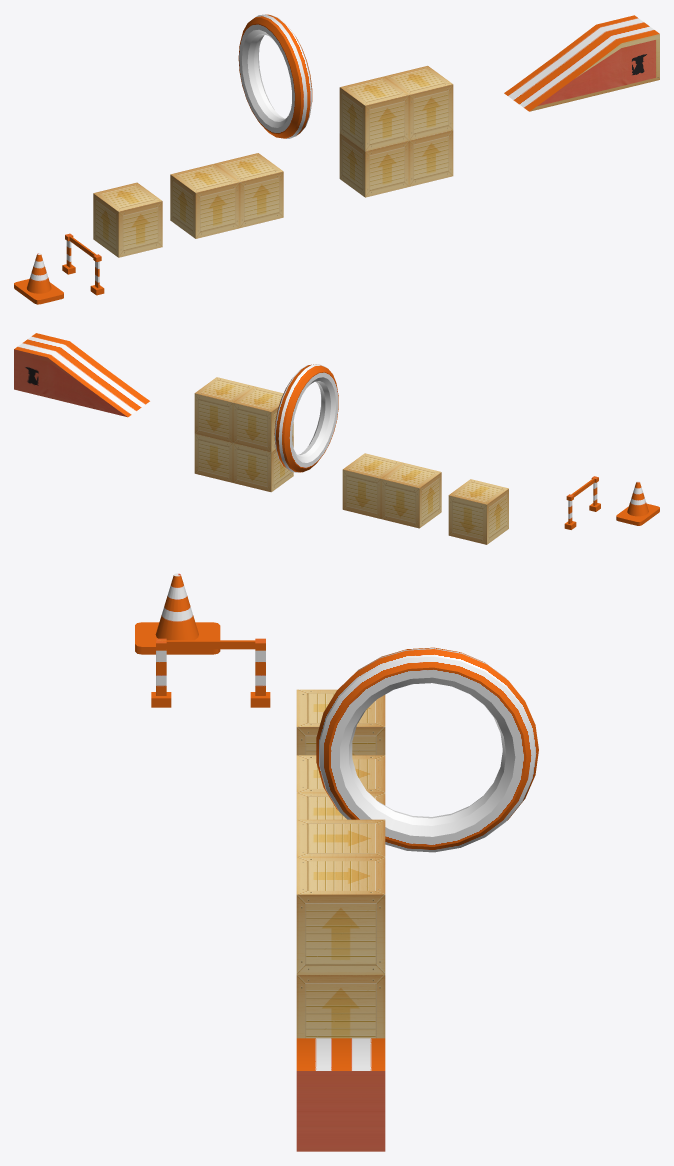
Rendered from jump and combo.fbx.
The picture shows the model from 3 angles, top to bottom: view 1: azimuth 30°, elevation 25°; view 2: azimuth 150°, elevation 25°; view 3: azimuth 270°, elevation 25°; orthographic projection. The views are drawn at different scales.
Parts seen in each view (by area): view 1: pCube14, pCube12, pCube13, pTorus1, pCube5, pCylinder2, pCube3; view 2: pCube14, pCube12, pCube13, pTorus1, pCube5, pCylinder2, pCube3; view 3: pCube14, pTorus1, pCube12, pCube5, pCylinder2, pCube13, pCube3.
Part boxes in pixels (x1,y1,x2,y2): pCube14: [339, 65, 453, 197]; pCube12: [504, 15, 659, 111]; pCube13: [170, 153, 283, 238]; pTorus1: [238, 14, 312, 138]; pCube5: [93, 182, 162, 257]; pCylinder2: [14, 253, 63, 304]; pCube3: [62, 233, 104, 295]; pCube14: [194, 377, 293, 492]; pCube12: [14, 333, 149, 417]; pCube13: [342, 453, 441, 528]; pTorus1: [274, 364, 338, 472]; pCube5: [448, 479, 508, 544]; pCylinder2: [616, 481, 659, 525]; pCube3: [564, 476, 600, 529]; pCube14: [296, 819, 385, 1038]; pTorus1: [316, 647, 538, 852]; pCube12: [296, 1038, 385, 1151]; pCube5: [296, 689, 385, 755]; pCylinder2: [135, 573, 220, 654]; pCube13: [296, 755, 385, 819]; pCube3: [151, 638, 270, 707].
Size of the model in its own units: 112 by 26.23 by 33.5.
